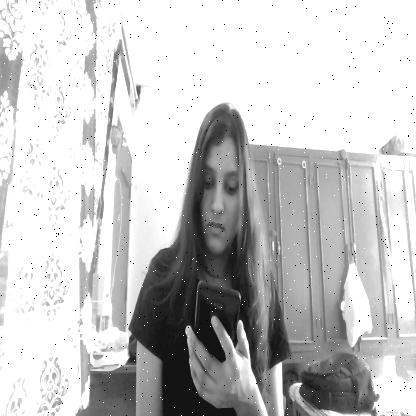Normal: (190, 105, 251, 261)
